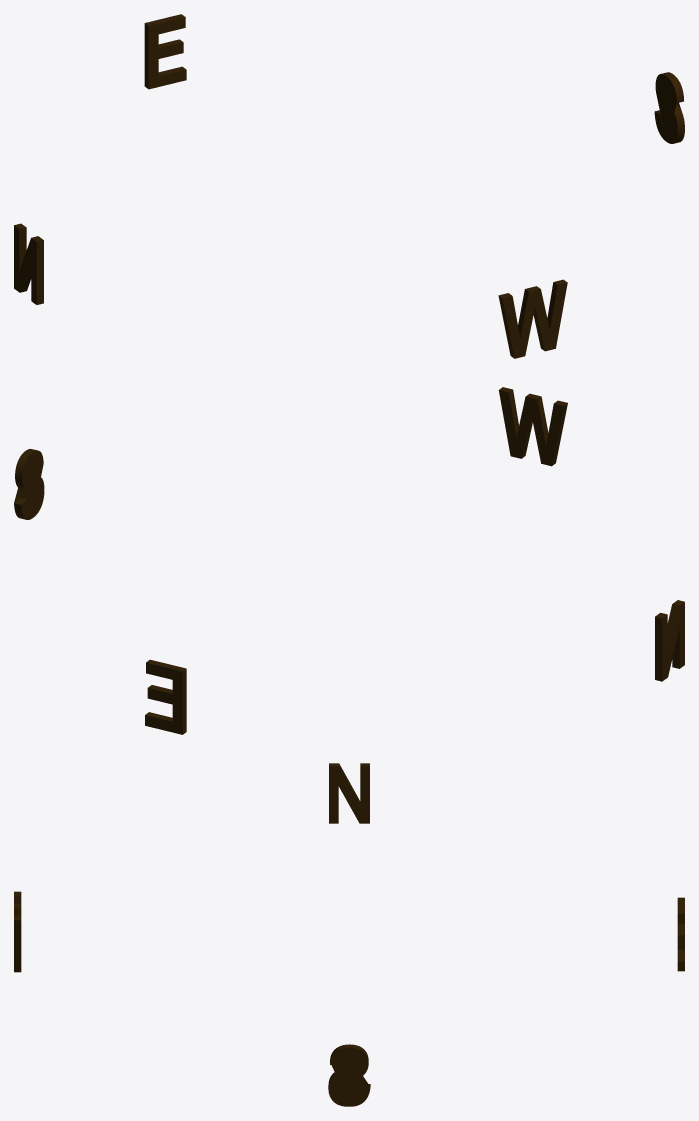
File: Letters.fbx
The picture shows the model from 3 angles, top to bottom: view 1: azimuth 30°, elevation 25°; view 2: azimuth 150°, elevation 25°; view 3: azimuth 270°, elevation 25°; orthographic projection. The views are drawn at different scales.
Parts seen in each view (by area): view 1: West, East, North, South; view 2: West, East, North, South; view 3: South, North, West, East.
Part boxes in pixels (x1,y1,x2,y2): West: (498, 279, 567, 358); East: (144, 14, 186, 89); North: (14, 223, 43, 304); South: (654, 72, 684, 143); West: (498, 387, 567, 466); East: (145, 659, 186, 734); North: (655, 600, 684, 681); South: (14, 449, 44, 519); South: (328, 1044, 370, 1106); North: (329, 763, 369, 823); West: (14, 891, 21, 972); East: (677, 897, 684, 971).
Bounding box in the file's own units: 13001 × 1256 × 12915.
